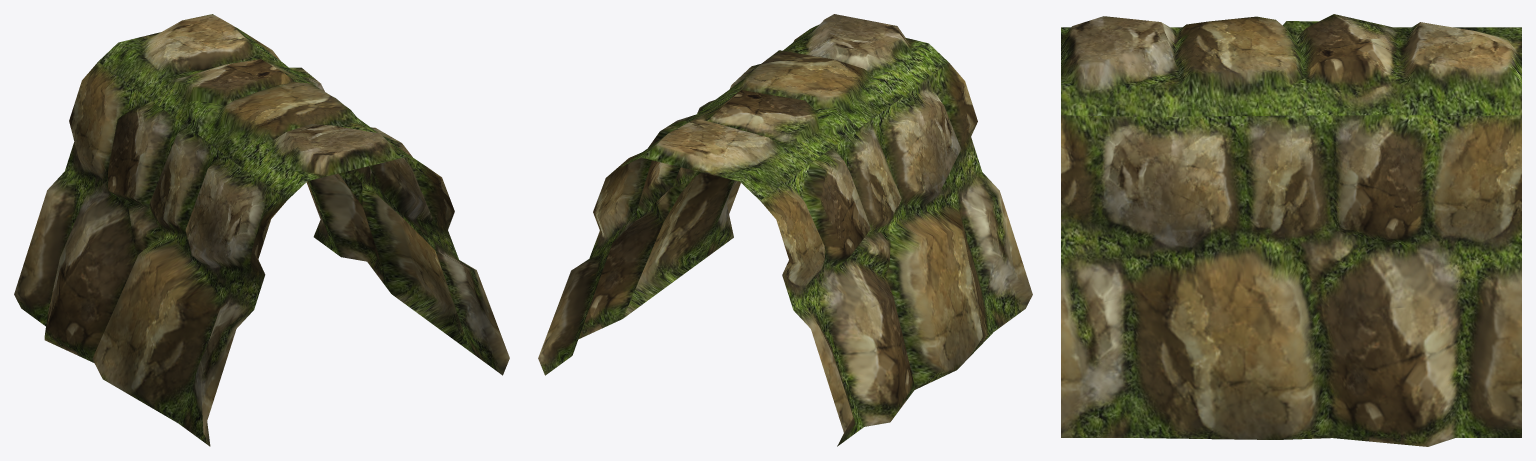
The model's file is StoneRoad01.FBX.
The picture shows the model from 3 angles, left to right: view 1: azimuth 30°, elevation 25°; view 2: azimuth 150°, elevation 25°; view 3: azimuth 270°, elevation 25°; orthographic projection. The views are drawn at different scales.
Parts seen in each view (by area): view 1: StoneRoad01; view 2: StoneRoad01; view 3: StoneRoad01.
Boxes of the visible parts, x1,y1,x2,y2 form: StoneRoad01: (14,14,509,446); StoneRoad01: (538,14,1032,446); StoneRoad01: (1061,14,1521,446).
Bounding box in the file's own units: 505 × 378 × 500.
